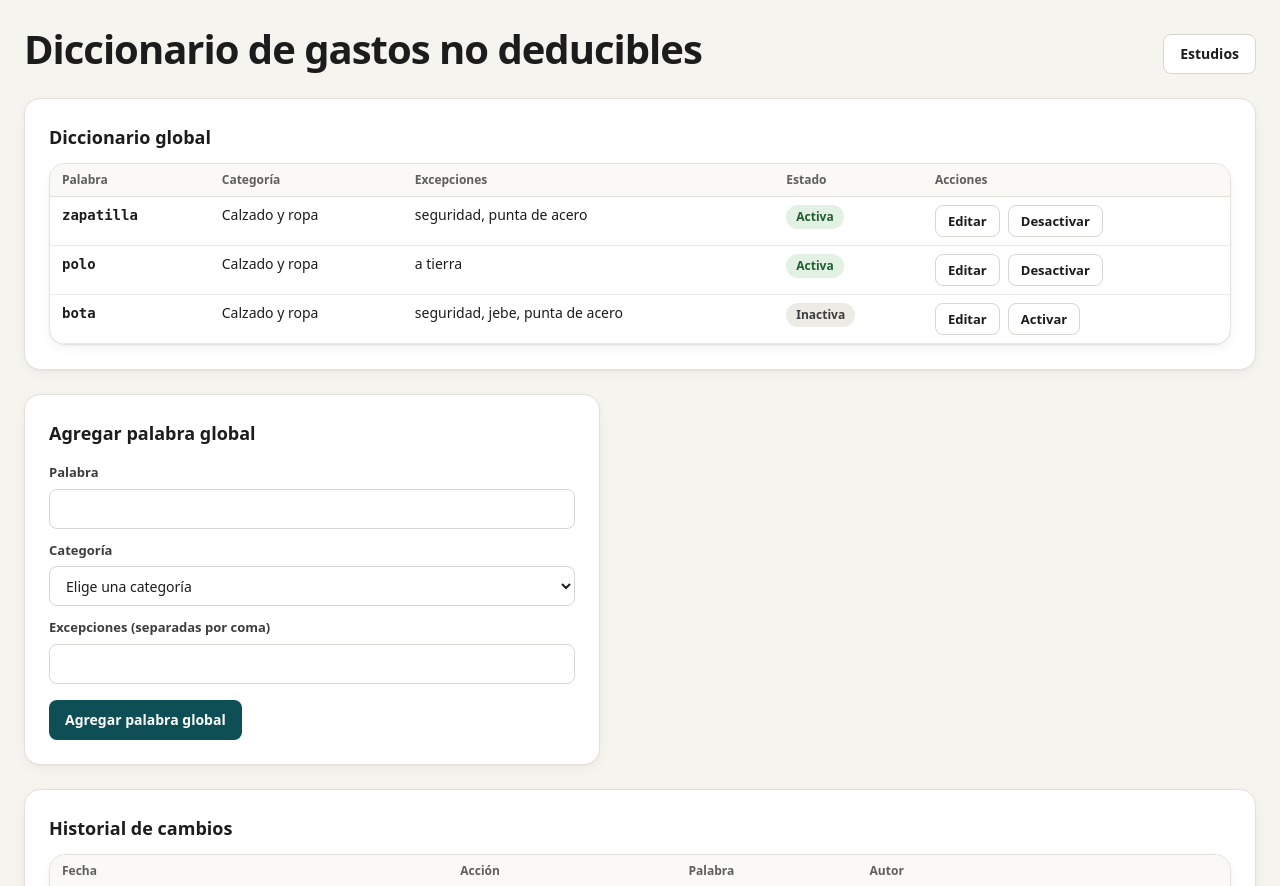
Test case: /admin/diccionario · agregar › rechaza una palabra con espacios en el formulario, sin petición
The image size is (1280, 886).
Type "dos palabras" into the field labelled "Palabra" at (312, 508), box left=49, top=488, right=575, bottom=528
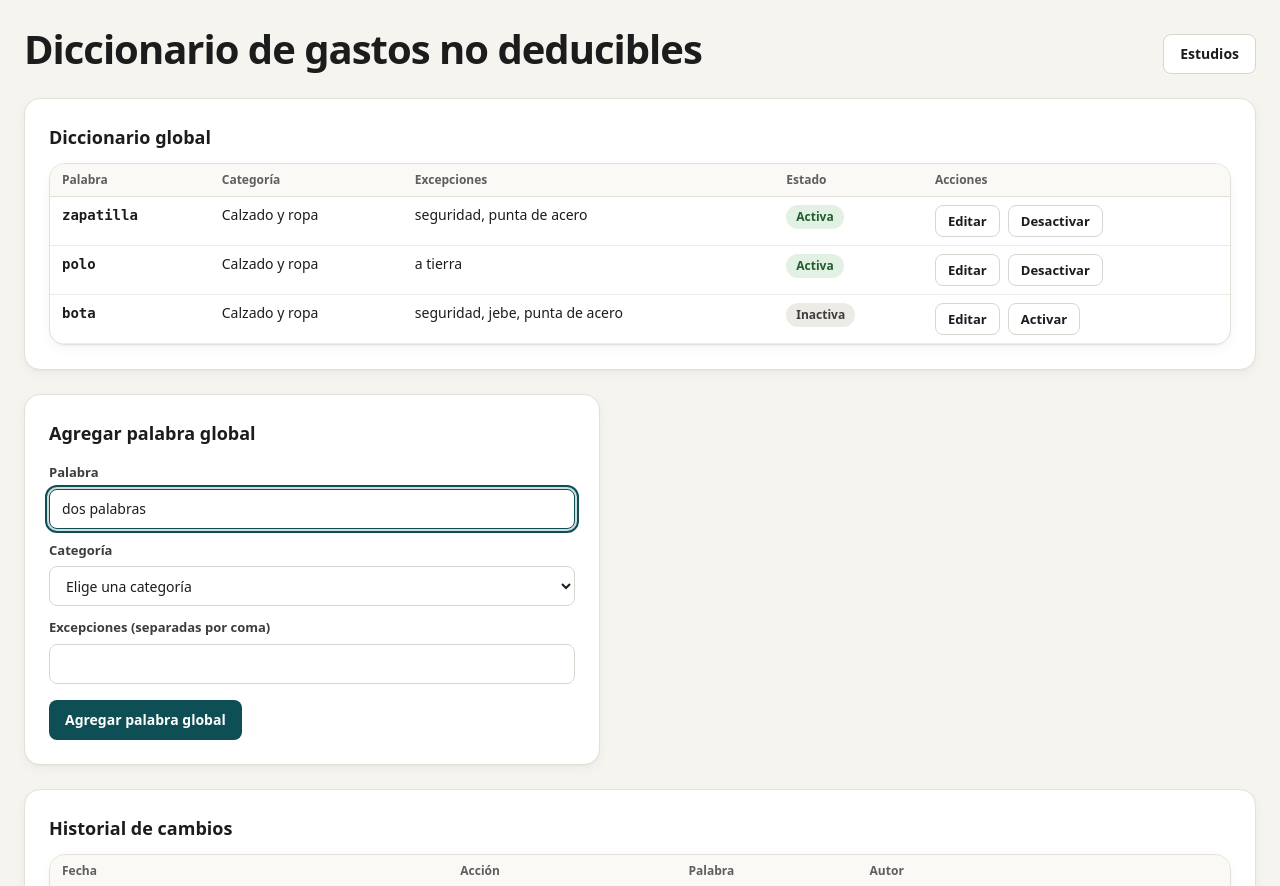
Select "Juguetes" in the dropdown labelled "Categoría" at (312, 586), box left=49, top=566, right=575, bottom=606
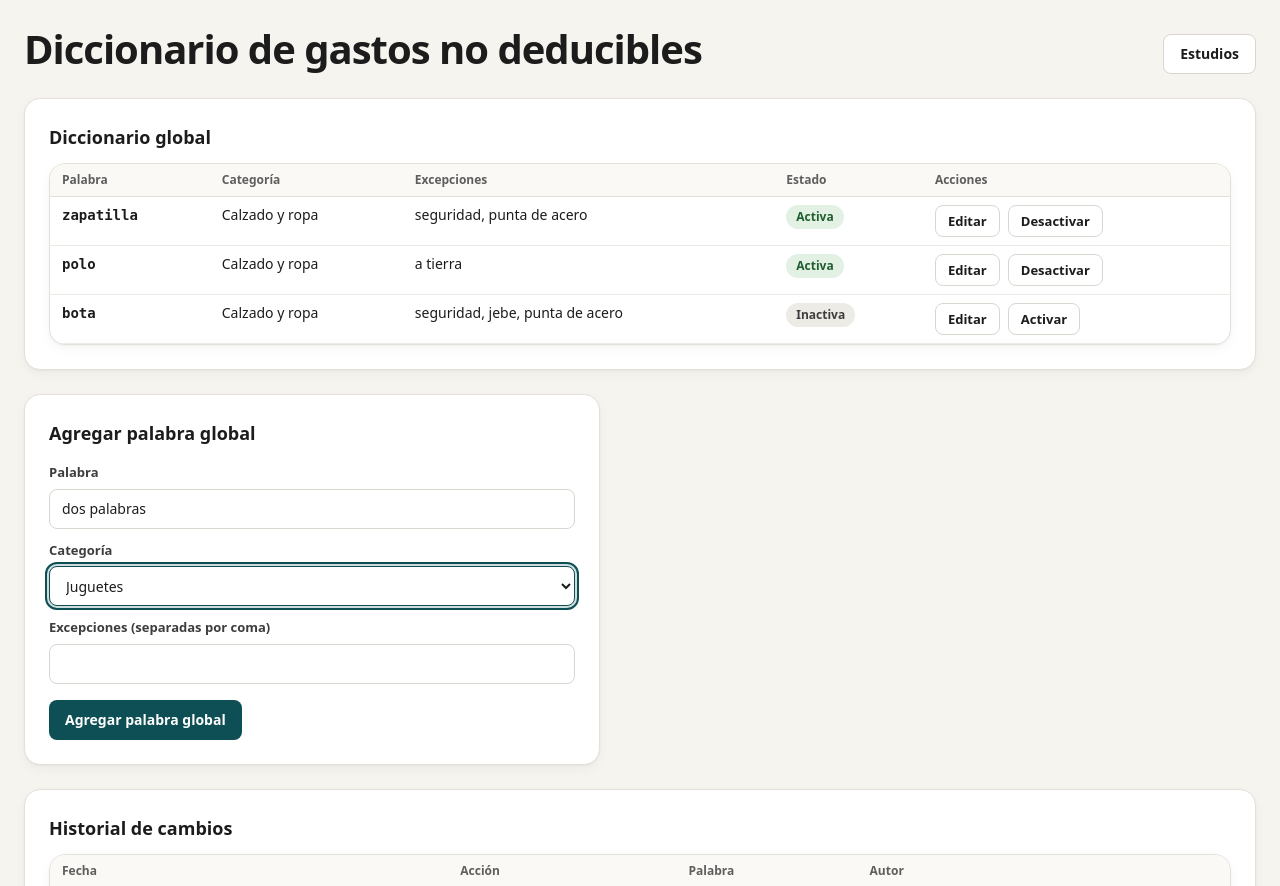
Click the button "Agregar palabra global" at (145, 720), box left=49, top=700, right=242, bottom=740
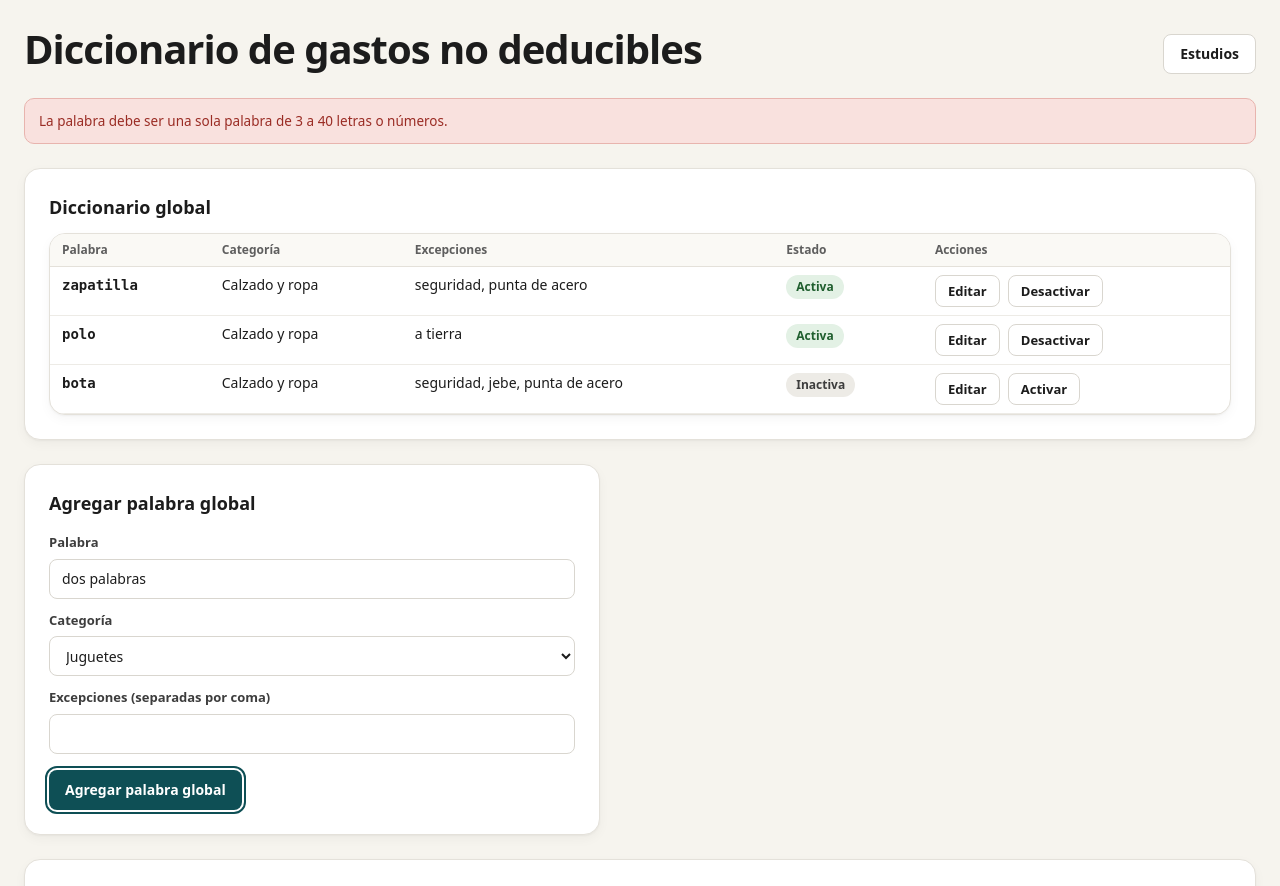
Now the message reads "La palabra debe ser una sola palabra de 3 a 40 letras o números.", box left=39, top=112, right=448, bottom=130
